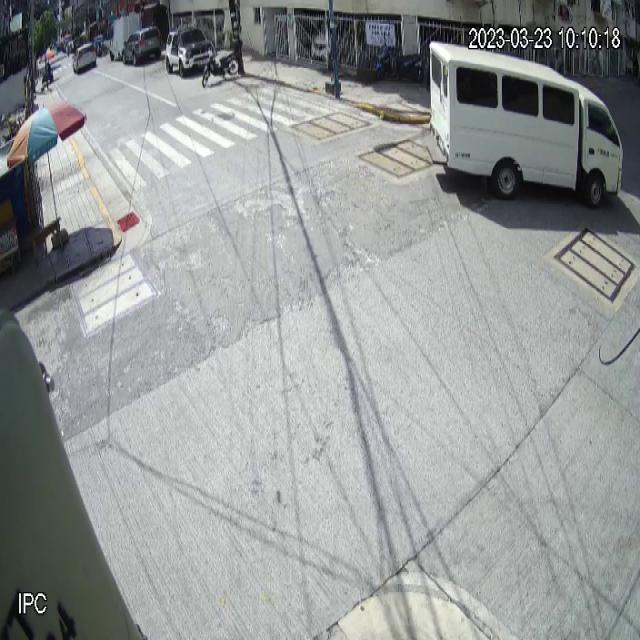Van: (427, 38, 623, 211)
